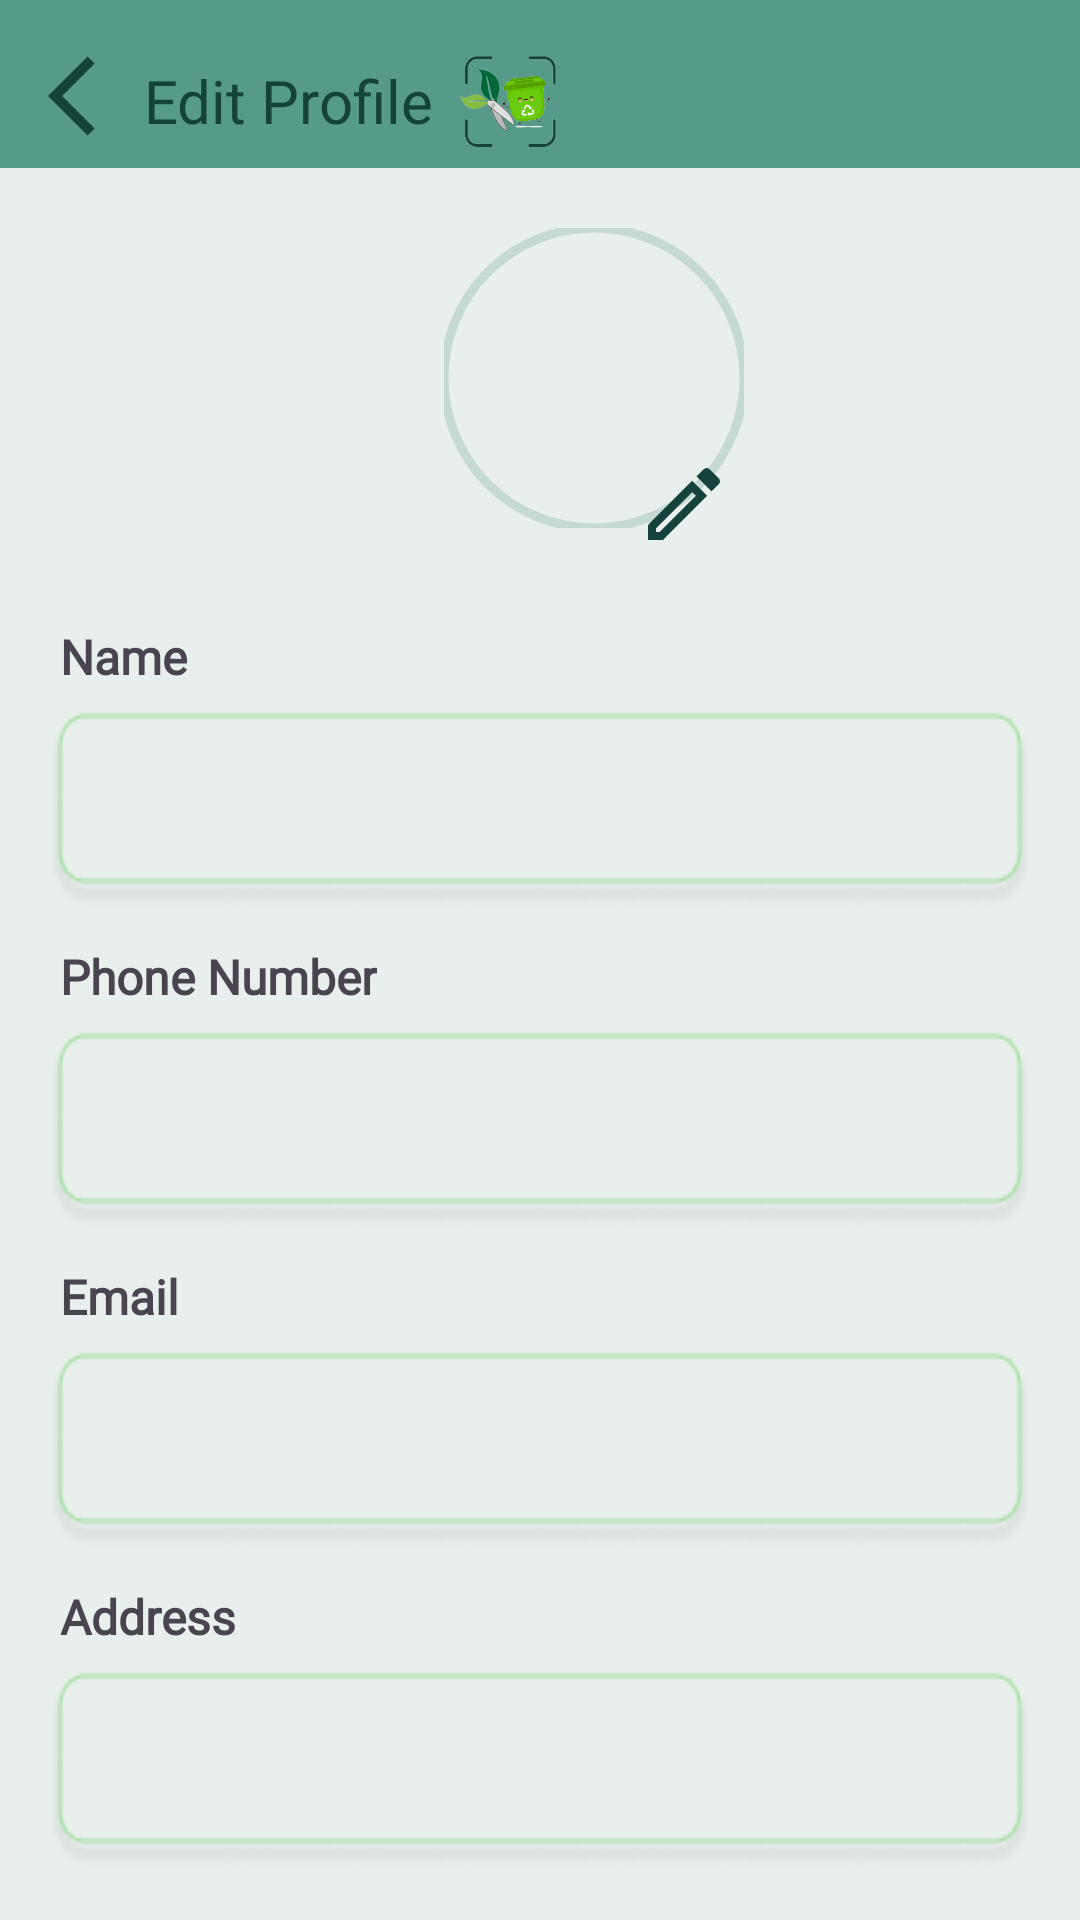

Locate icon controls on the screen. Image size 1080px x 1920px, boxes as (x1, y1, x2, y2).
Back: (48, 57, 95, 135)
Edit Profile Picture: (636, 456, 727, 540)
